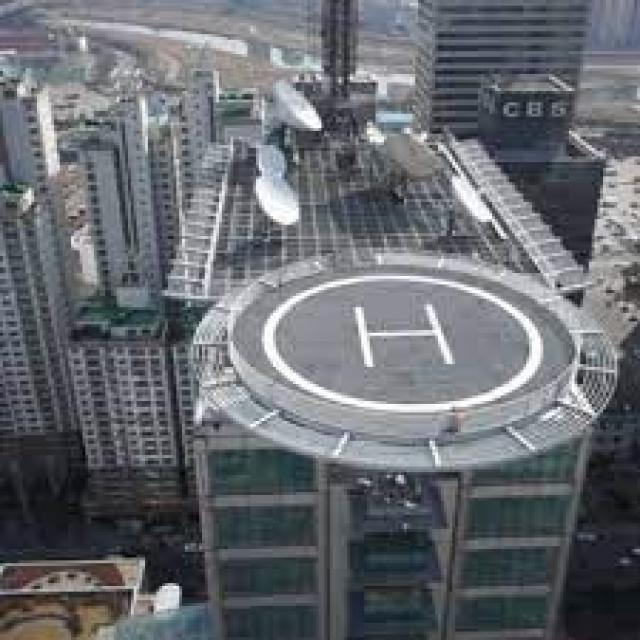helipad: (256, 262, 543, 412)
